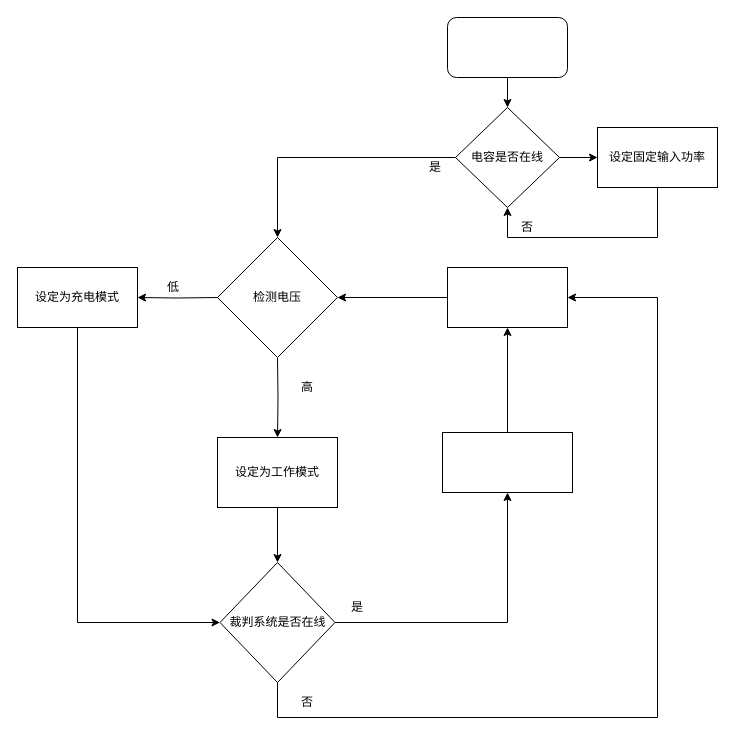
Some shapes in this 735 by 743 pixel diagram are drawn without their labels. Each missing label, with the centre of its shape:
"开始" belongs at (507,47).
"设定输入功率" belongs at (507,297).
"读取缓冲值和功率限制" belongs at (507,462).
